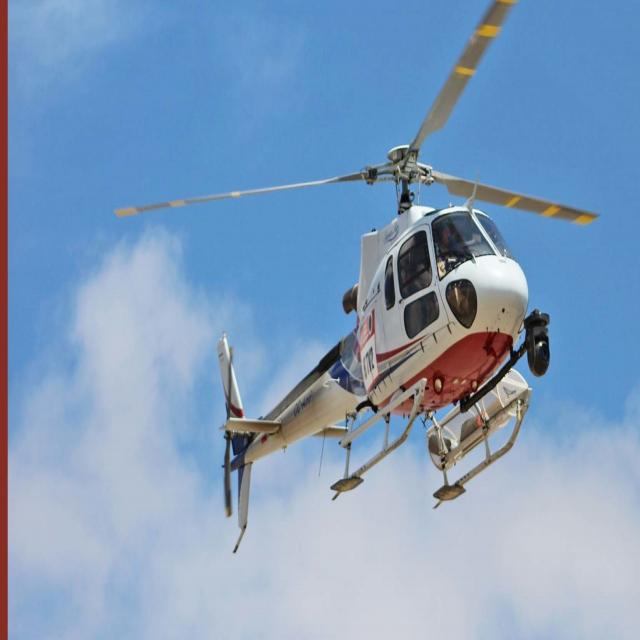helicopter: (107, 1, 610, 566)
